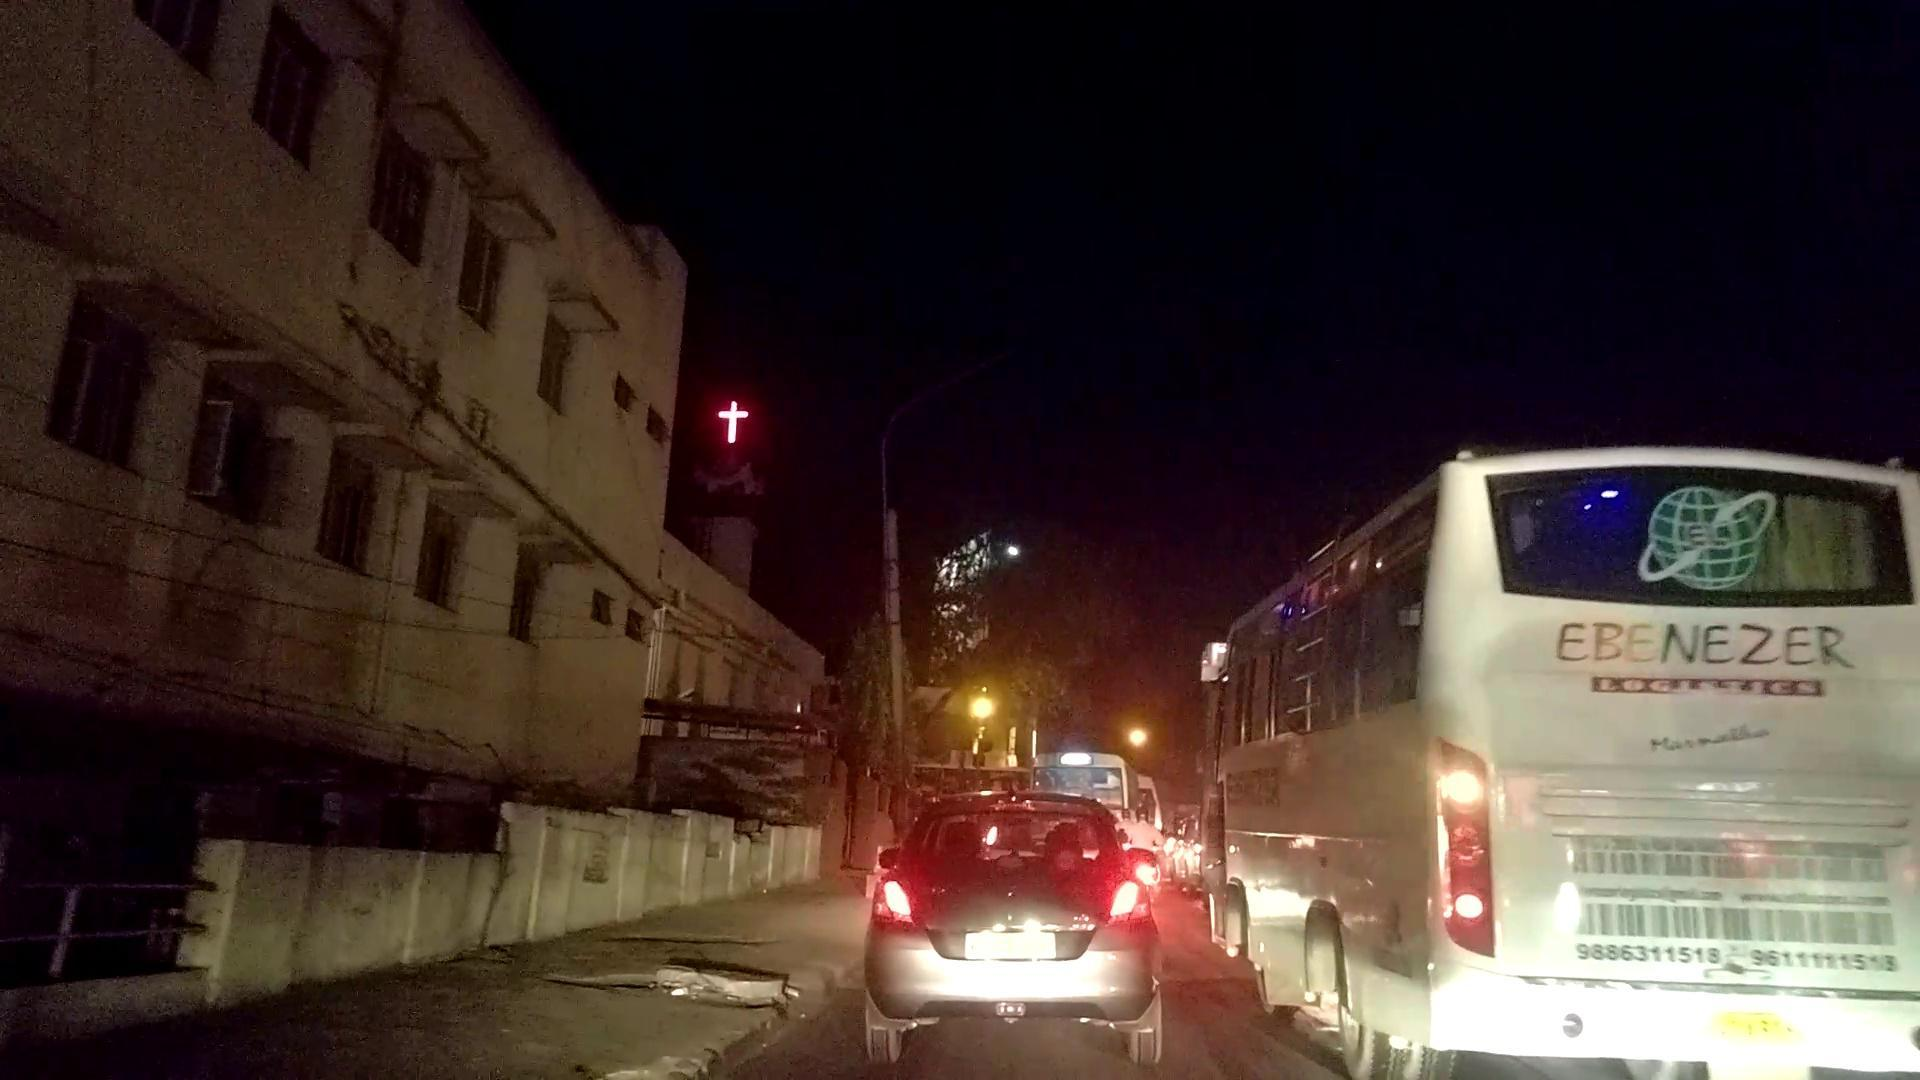on: (790, 452, 1230, 803)
